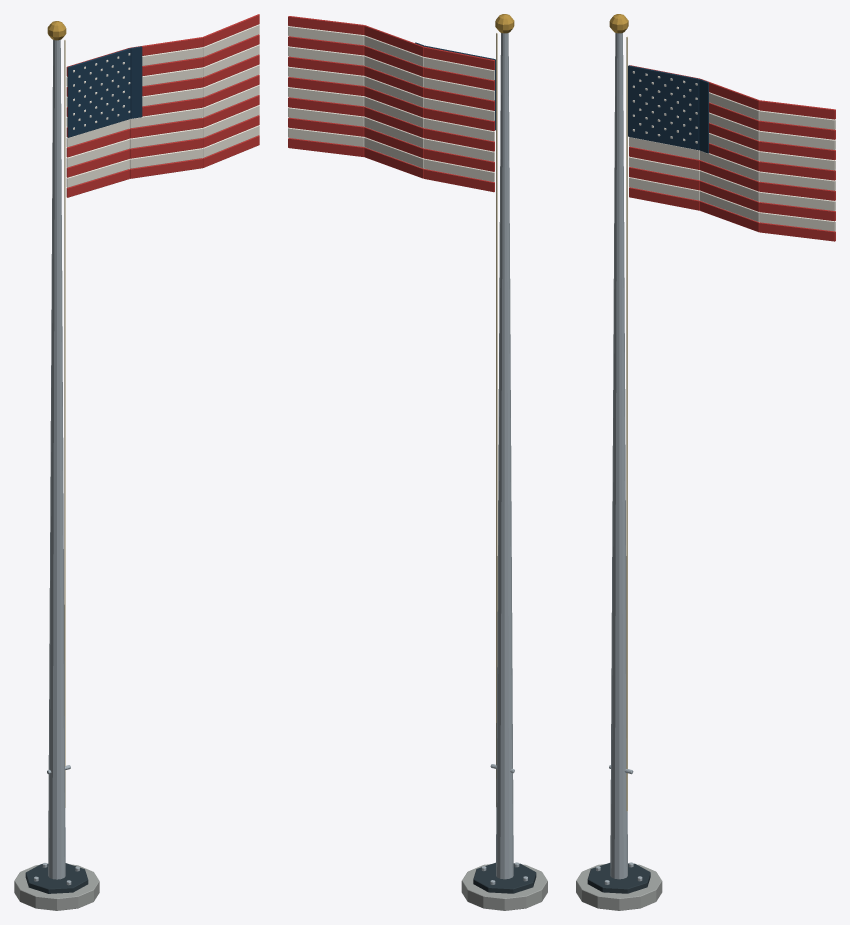
The model's file is b18_american_flag_civic_pole.glb.
3 renders of one model, left to right at view 1: azimuth 30°, elevation 25°; view 2: azimuth 150°, elevation 25°; view 3: azimuth 330°, elevation 25°, orthographic.
Visible parts, largest first — view 1: b18_american_flag_civic_pole; view 2: b18_american_flag_civic_pole; view 3: b18_american_flag_civic_pole.
Part boxes in pixels (x1,y1,x2,y2): b18_american_flag_civic_pole: (14, 14, 259, 910); b18_american_flag_civic_pole: (288, 14, 547, 910); b18_american_flag_civic_pole: (576, 14, 835, 910).
Size of the model in its own units: 1.86 by 6.3 by 0.56.
